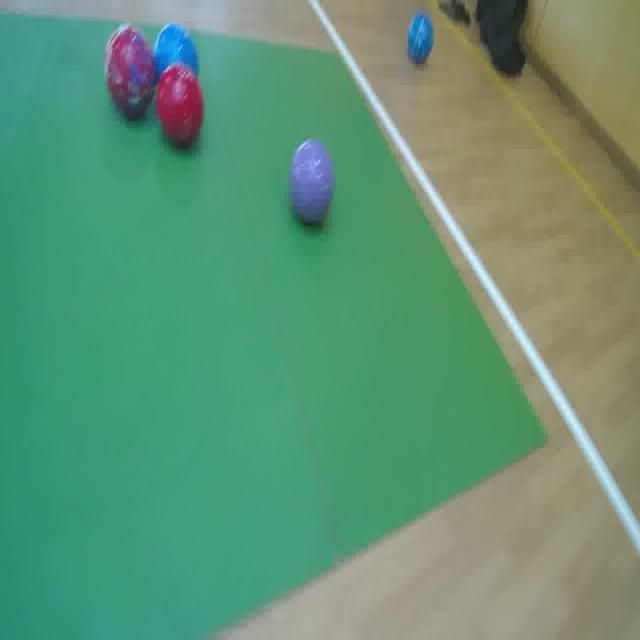blue_ball: (149, 20, 201, 103), (404, 12, 436, 64)
purple_ball: (284, 133, 336, 233)
red_ball: (104, 22, 155, 120), (153, 62, 206, 150)
